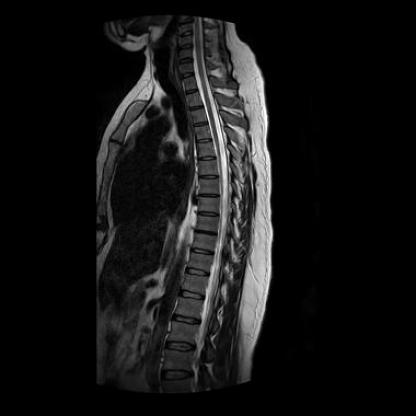Demyelinating Plaquesrotation: (198, 209, 221, 221), (197, 136, 217, 146)
Hemangiomatarotation: (188, 253, 215, 272), (194, 125, 214, 139)
